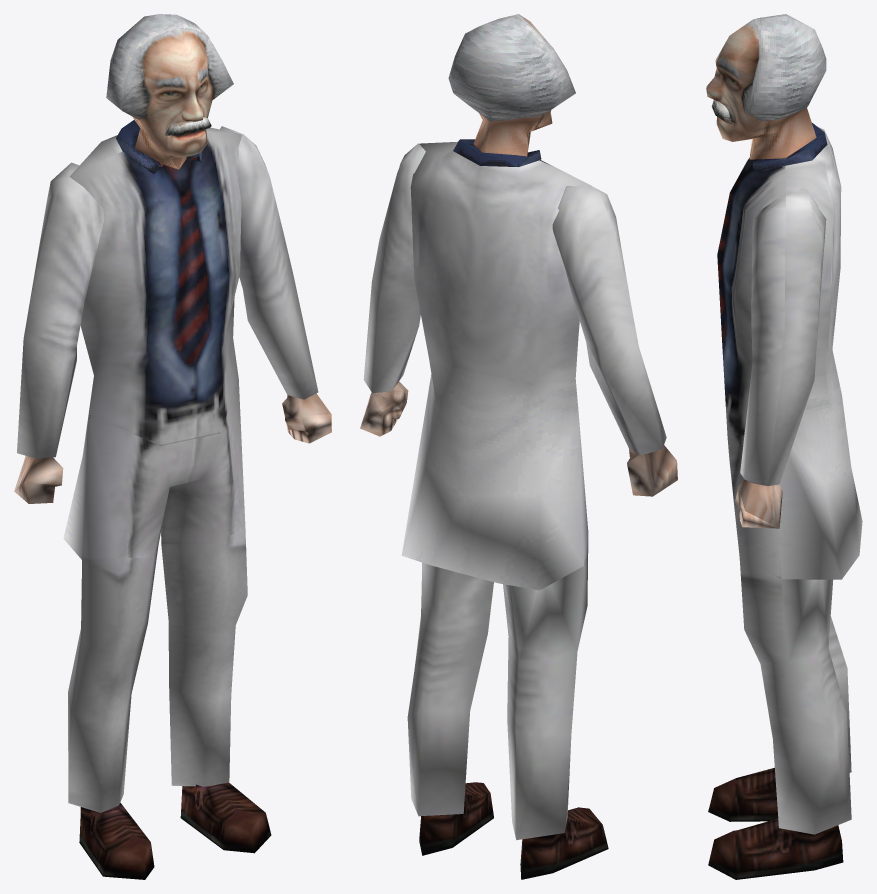
The model's file is scientist.fbx.
3 views of the same model, side by side, from view 1: azimuth 30°, elevation 25°; view 2: azimuth 150°, elevation 25°; view 3: azimuth 270°, elevation 25° (orthographic).
Visible parts, largest first — view 1: mesh0; view 2: mesh0; view 3: mesh0.
Part boxes in pixels (x1=…): mesh0: x1=14, y1=14, x2=331, y2=879; mesh0: x1=360, y1=14, x2=677, y2=879; mesh0: x1=706, y1=14, x2=862, y2=879.
Size of the model in its own units: 2722 by 7014 by 1208.
Materials: 19 (19 with a texture image).
